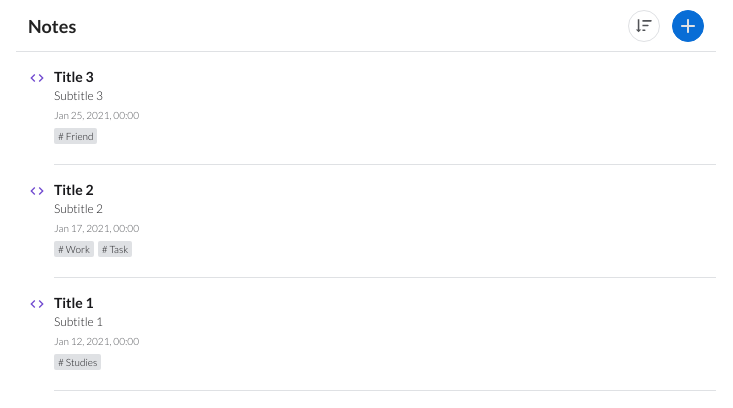
Test case: Note List Container › selects two items and should show a counter in the header
The width and height of the screenshot is (733, 408).
Click the element with test id "note-item" that starts with "Title 3" at (366,108), box [16,52,716,165]
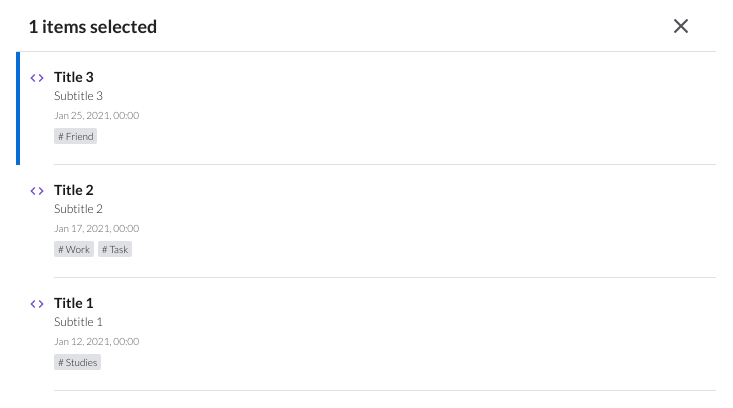
Click the element with test id "note-item" that starts with "Title 2" at (366,222), box [16,165,716,278]
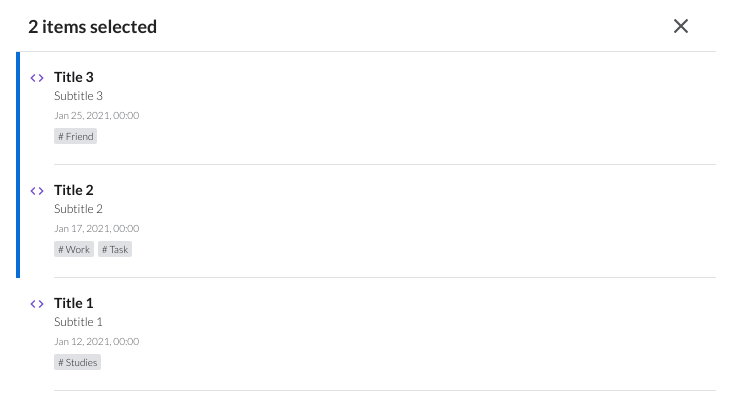
Now the heading "2 items selected" is shown, box [28,14,157,36]
